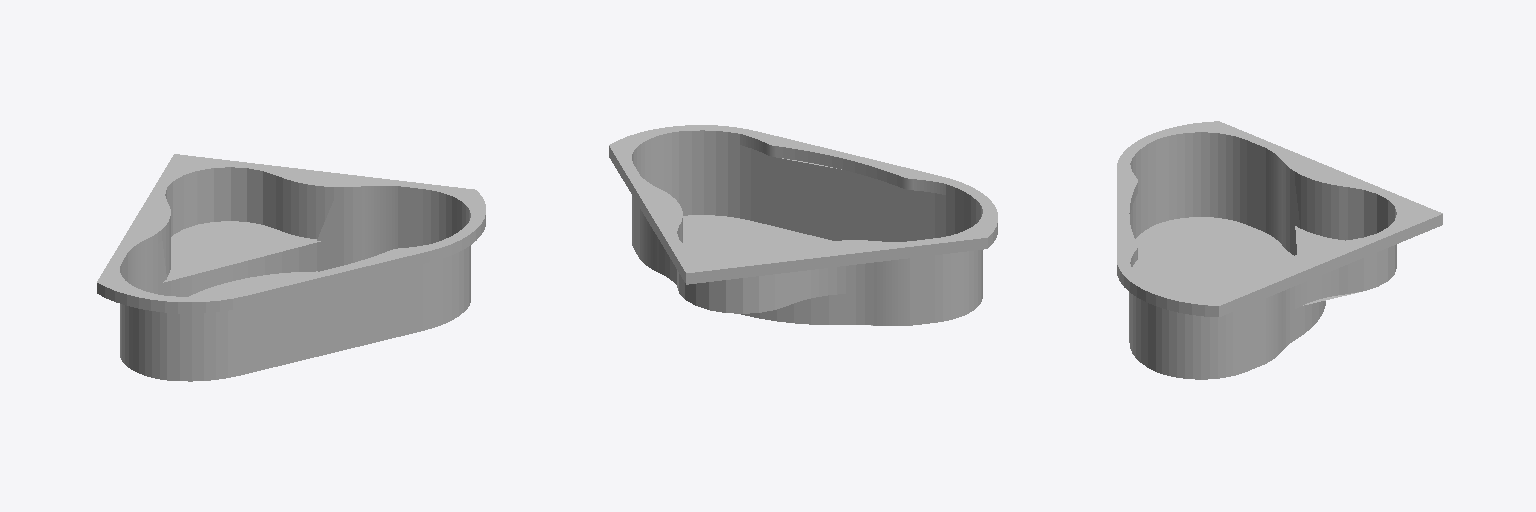
File: INDRA BLANCA.obj
3 views of the same model, side by side, from view 1: azimuth 30°, elevation 25°; view 2: azimuth 150°, elevation 25°; view 3: azimuth 270°, elevation 25° (orthographic).
Parts seen in each view (by area): view 1: Mesh1 Group1 Model; view 2: Mesh1 Group1 Model; view 3: Mesh1 Group1 Model.
Boxes of the visible parts, x1=… form: Mesh1 Group1 Model: x1=97, y1=154, x2=485, y2=381; Mesh1 Group1 Model: x1=609, y1=125, x2=997, y2=325; Mesh1 Group1 Model: x1=1117, y1=121, x2=1442, y2=379.
Bounding box in the file's own units: 197 × 42 × 147.